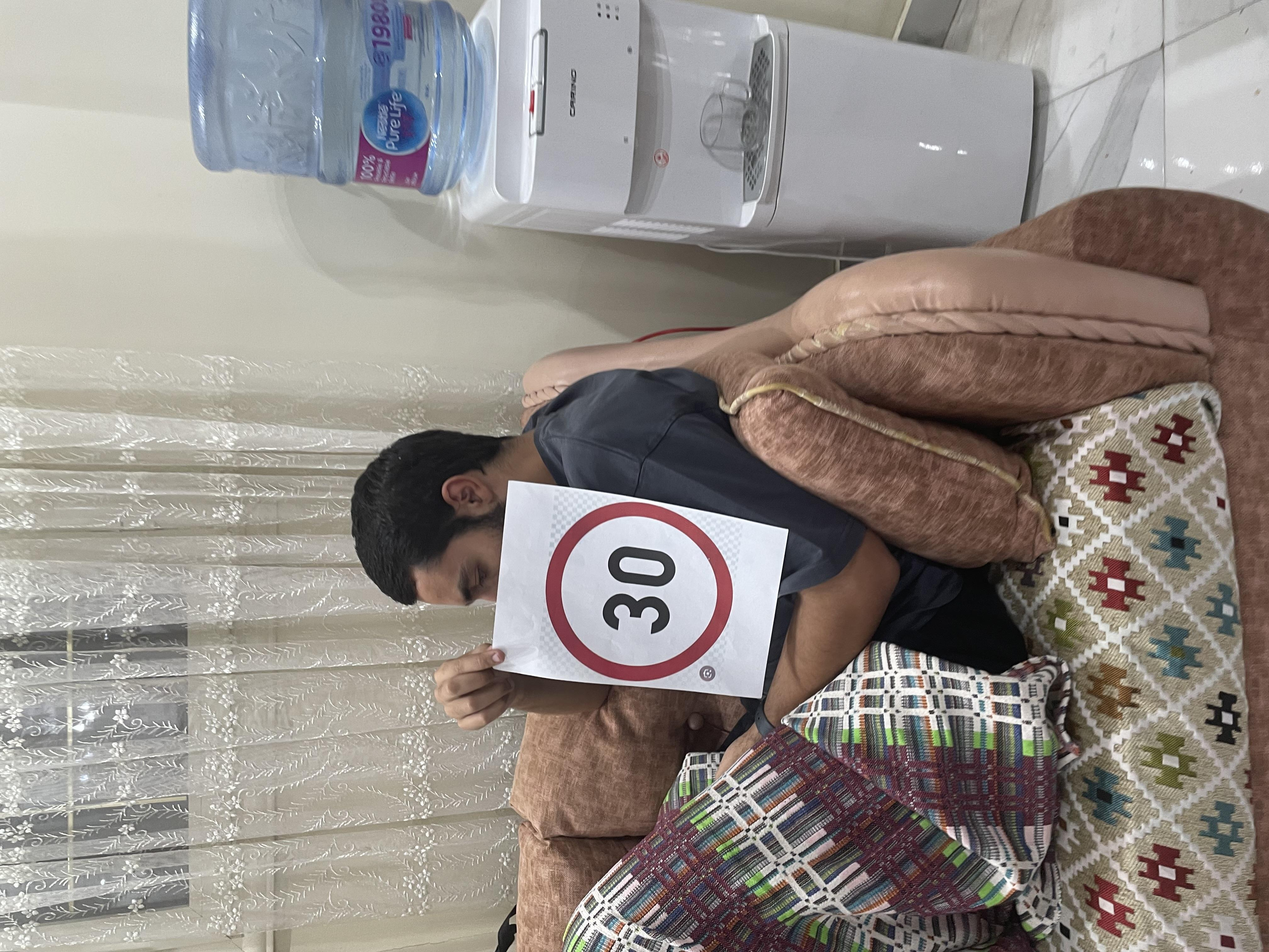30-speed: (349, 409, 603, 547)
